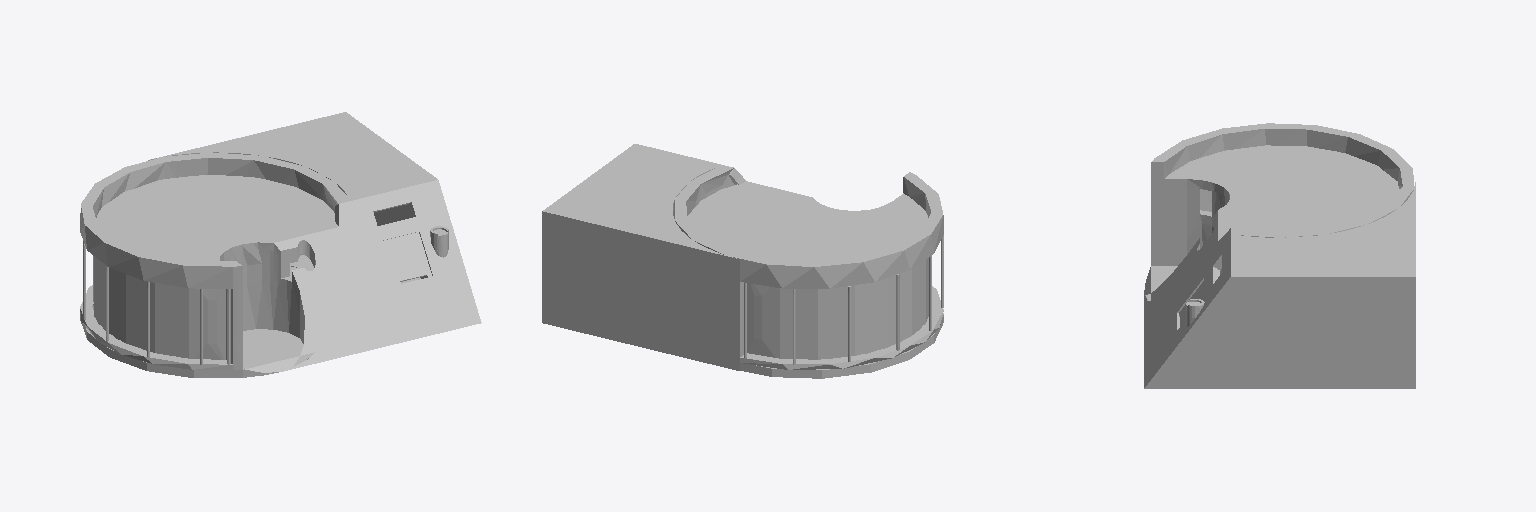
Rendered from newnewBarbot3.obj.
3 views of the same model, side by side, from view 1: azimuth 30°, elevation 25°; view 2: azimuth 150°, elevation 25°; view 3: azimuth 270°, elevation 25° (orthographic).
Bounding box in the file's own units: 59 × 20 × 44.